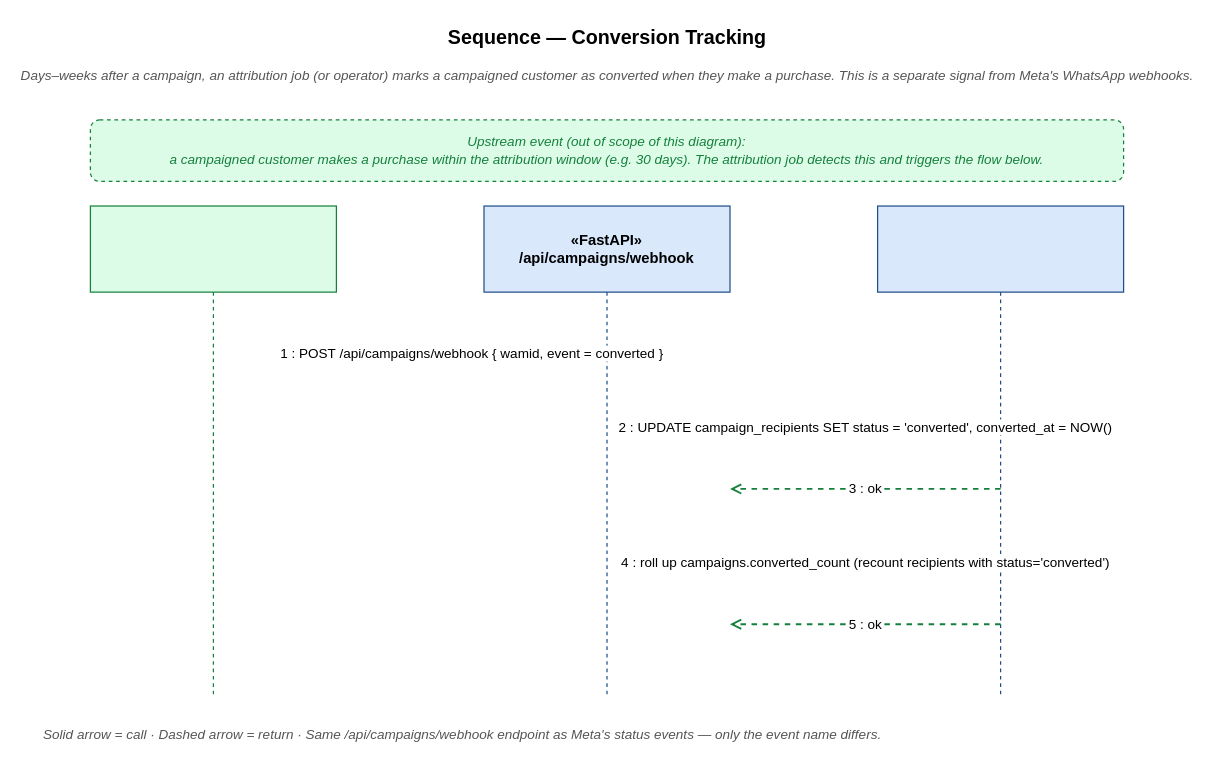
This 1214x768 diagram has some shape labels left out. Each missing label, with the box of its shape:
«DB» PostgreSQL: (876, 205, 1124, 698)
«job» Attribution Job (cron / operator): (89, 205, 336, 698)
